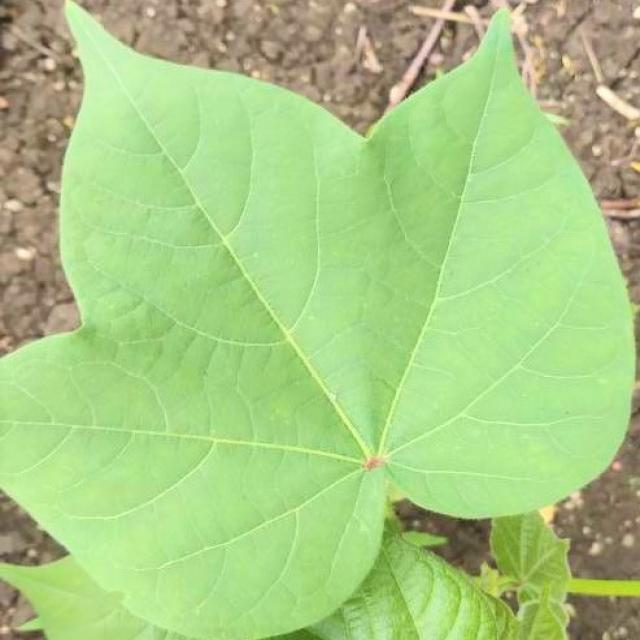Healthy Leaf: (22, 44, 640, 640)
